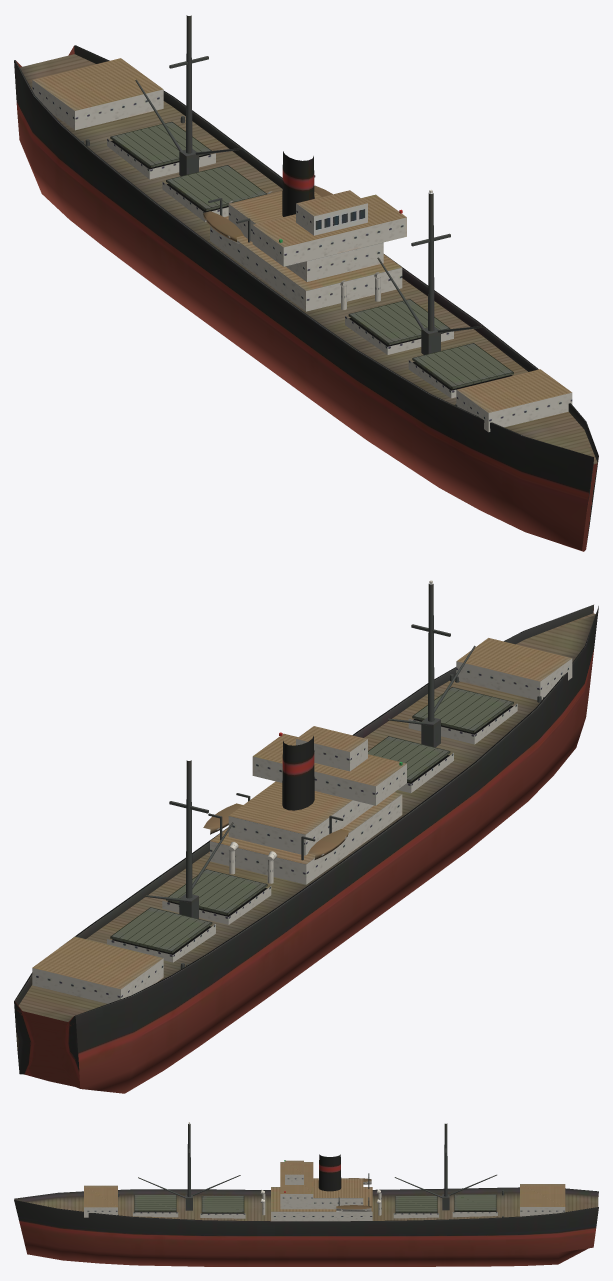
Rendered from cargo.glb.
3 views of the same model, one above another, from view 1: azimuth 30°, elevation 25°; view 2: azimuth 150°, elevation 25°; view 3: azimuth 270°, elevation 25° (orthographic). The views are drawn at different scales.
Parts seen in each view (by area): view 1: hull, hold_hatch_1, hold_hatch_3, hold_hatch_2, hold_hatch_4; view 2: hull, hold_hatch_4, hold_hatch_1, hold_hatch_3, hold_hatch_2; view 3: hull, hold_hatch_1, hold_hatch_4, hold_hatch_3, hold_hatch_2, boat_left.
Part boxes in pixels (x1,y1,x2,y2): hull: [14, 15, 598, 551]; hold_hatch_1: [412, 343, 513, 389]; hold_hatch_3: [166, 165, 266, 211]; hold_hatch_2: [348, 299, 450, 345]; hold_hatch_4: [110, 121, 211, 167]; hull: [14, 580, 598, 1093]; hold_hatch_4: [110, 907, 212, 953]; hold_hatch_1: [412, 687, 513, 732]; hold_hatch_3: [166, 869, 267, 915]; hold_hatch_2: [368, 736, 450, 782]; hull: [14, 1122, 598, 1266]; hold_hatch_1: [134, 1194, 176, 1211]; hold_hatch_4: [454, 1194, 496, 1211]; hold_hatch_3: [395, 1195, 437, 1212]; hold_hatch_2: [201, 1196, 244, 1212]; boat_left: [336, 1205, 371, 1211].
Bounding box in the file's own units: 16 × 30.95 × 124.
8 materials, 7 textured.
